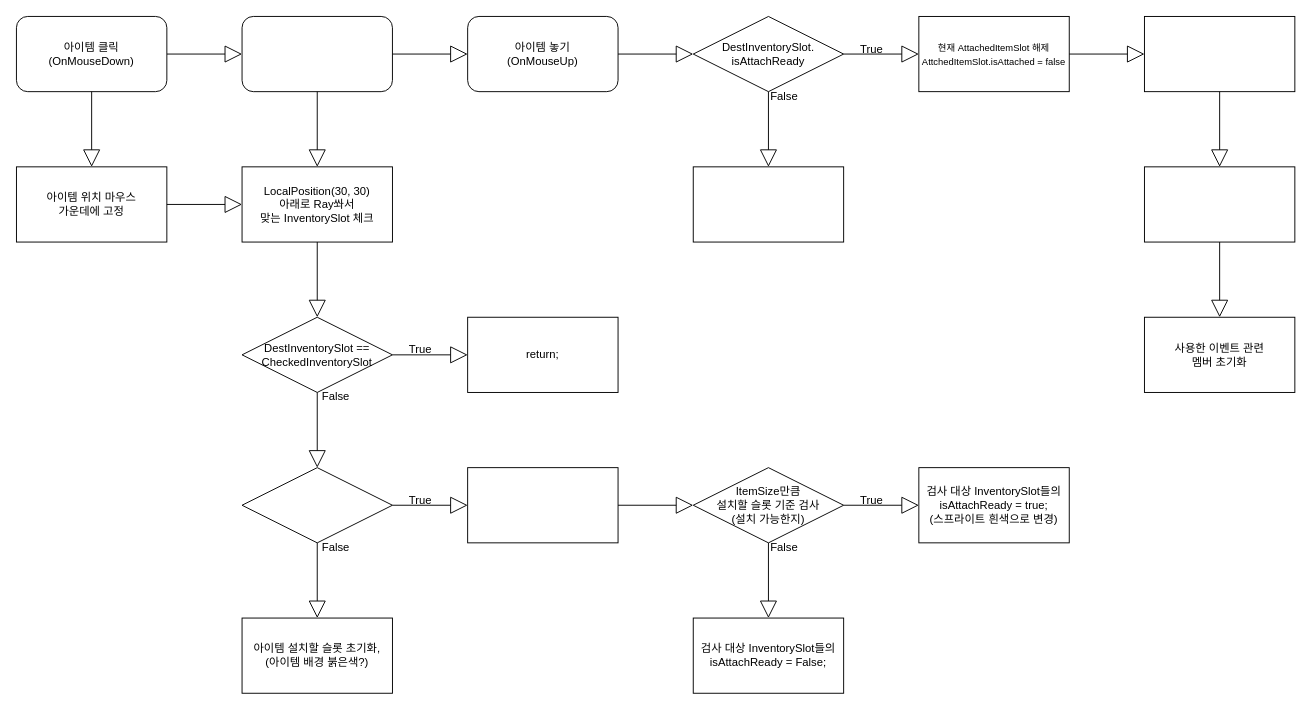
Some shapes in this 1311 by 710 pixel diagram are drawn without their labels. Here are the shapes that lost their labels. From the top down, the box of each, then its label:
(241, 16, 392, 92): 아이템 드래그 (OnMouseDrag)
(1144, 16, 1295, 92): rectTransform = DestInventorySlot.transform - (30, 30) 아이템 위치 수정
(692, 166, 844, 242): 드래그 앤 드랍 전으로 초기화
(1144, 166, 1295, 242): AttachedInventorySlot = DestInventorySlot 아이템 정보 수정
(241, 467, 392, 543): hit.transform.tag = Inventory
(467, 467, 618, 543): 아이템 설치할 슬롯 기억 (DestInventorySlot)
